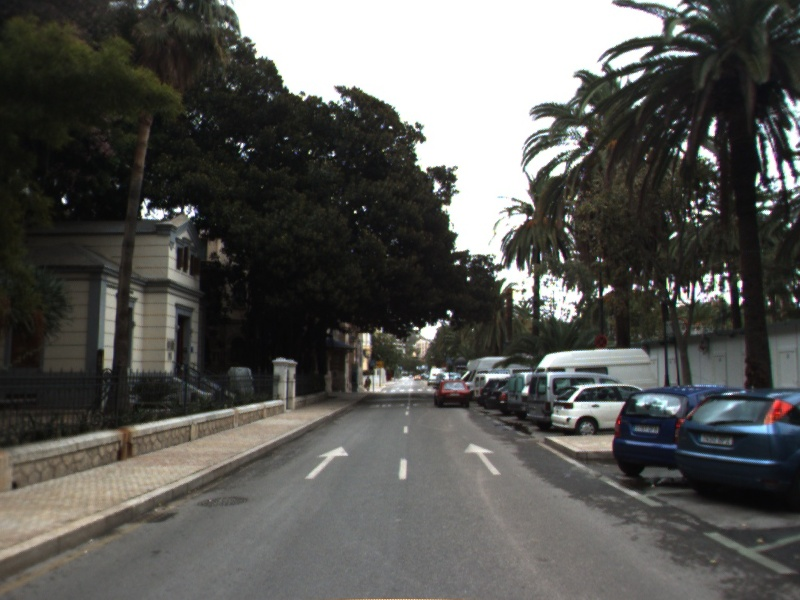STRAIGHT: (303, 444, 351, 481), (462, 441, 503, 477)
